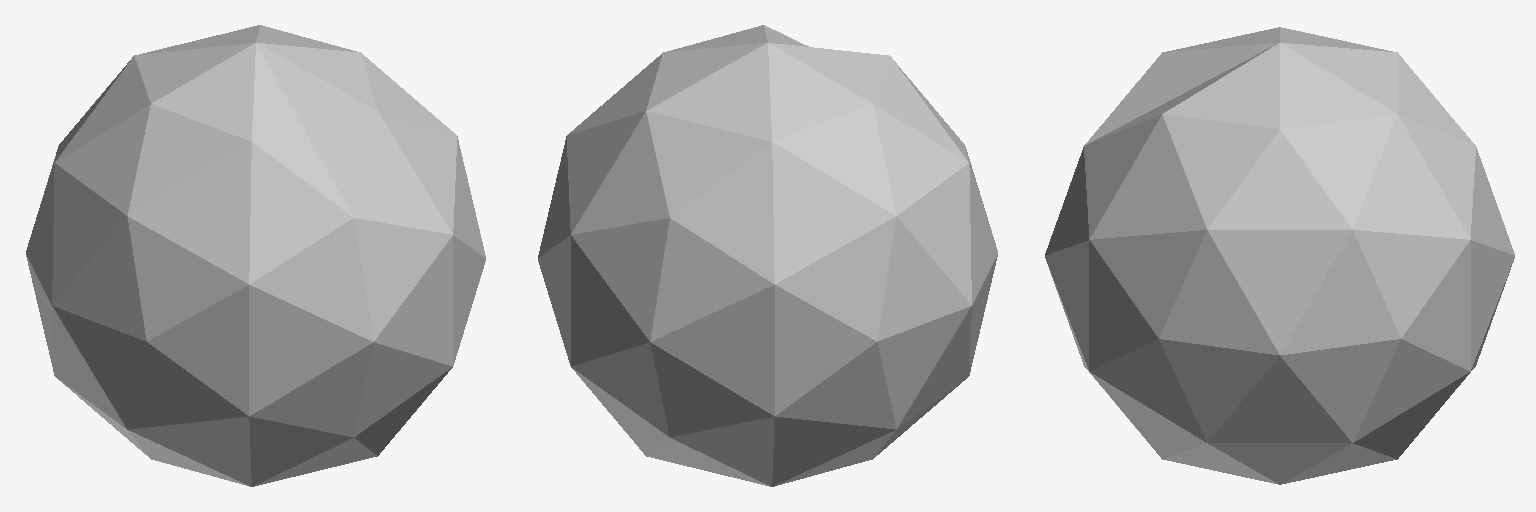
File: pentakisIcosadodecahedronMod.obj
The picture shows the model from 3 angles: view 1: azimuth 30°, elevation 25°; view 2: azimuth 150°, elevation 25°; view 3: azimuth 270°, elevation 25°; orthographic projection.
Visible parts, largest first — view 1: Imported; view 2: Imported; view 3: Imported.
Boxes of the visible parts, <box> form: Imported: <box>26,25,485,486</box>; Imported: <box>538,25,997,486</box>; Imported: <box>1045,27,1514,484</box>.
Bounding box in the file's own units: 2.1 × 2.1 × 2.1.